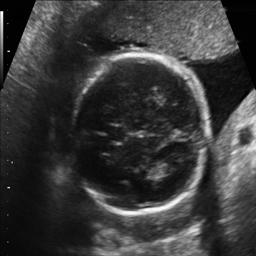normal: (69, 48, 215, 220)
